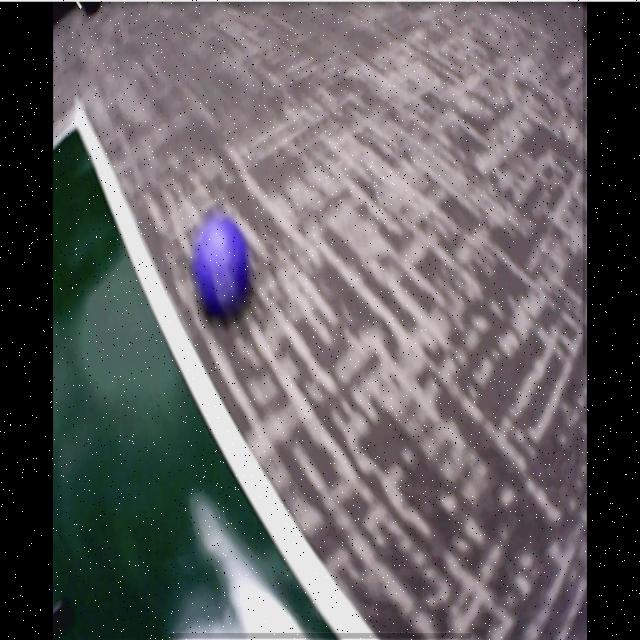ball: (194, 220, 251, 312)
